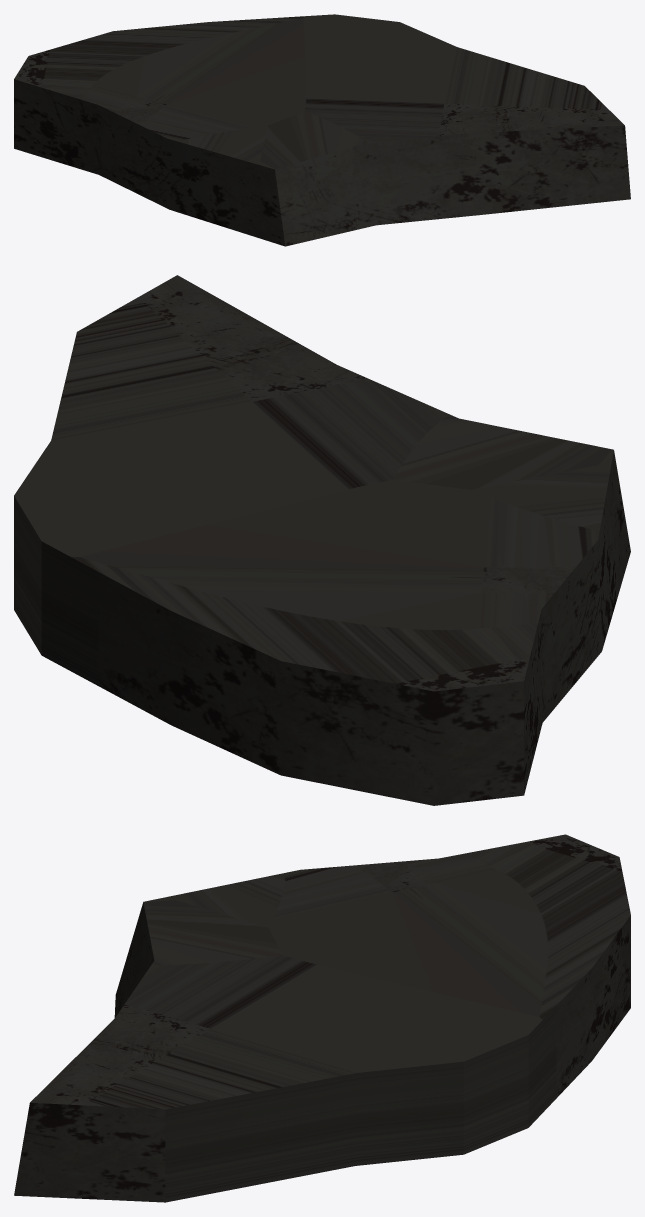
File: Rubble02.FBX
3 renders of one model, top to bottom at view 1: azimuth 30°, elevation 25°; view 2: azimuth 150°, elevation 25°; view 3: azimuth 270°, elevation 25°, orthographic. The views are drawn at different scales.
Visible parts, largest first — view 1: Plane042; view 2: Plane042; view 3: Plane042.
Boxes of the visible parts, x1,y1,x2,y2 form: Plane042: (14, 14, 630, 246); Plane042: (14, 275, 630, 805); Plane042: (14, 834, 630, 1202).
Bounding box in the file's own units: 9511 × 1500 × 9015.
